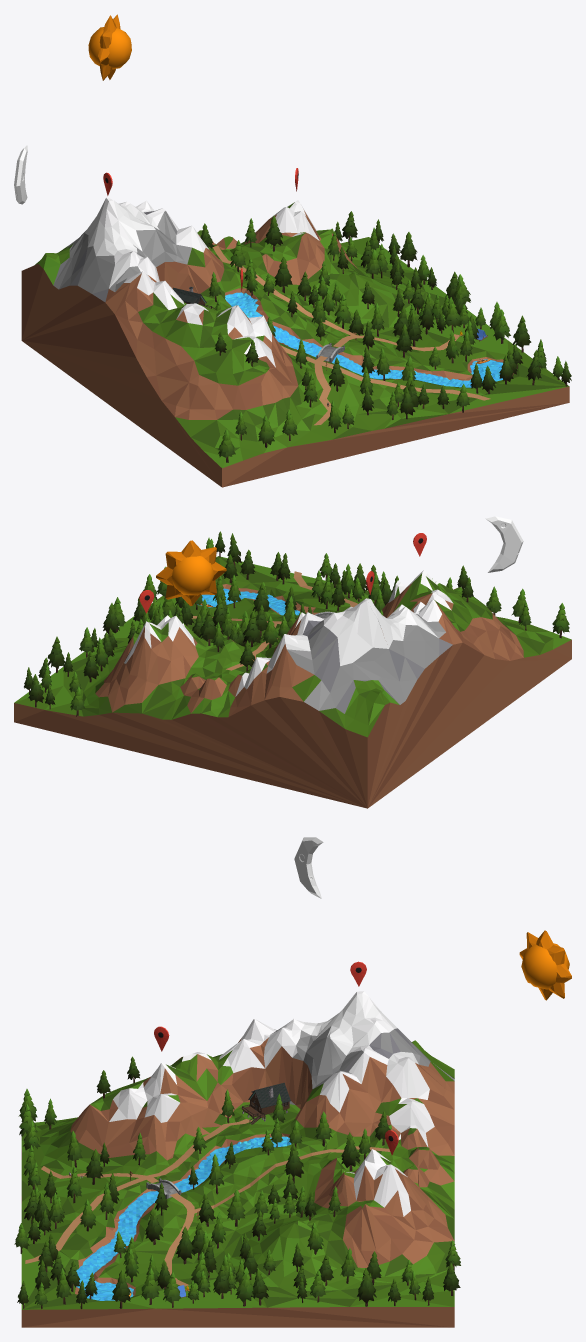
Rendered from mountain.glb.
3 views of the same model, one above another, from view 1: azimuth 30°, elevation 25°; view 2: azimuth 150°, elevation 25°; view 3: azimuth 270°, elevation 25° (orthographic). The views are drawn at different scales.
Parts seen in each view (by area): view 1: ground, water, path, Sun; view 2: ground, Sun, Moon, water, path; view 3: ground, water, path, Sun, Cabin, Moon.
Part boxes in pixels (x1,y1,x2,y2): ground: [21, 197, 569, 487]; water: [225, 292, 503, 387]; path: [213, 245, 490, 425]; Sun: [88, 14, 131, 80]; ground: [14, 556, 571, 808]; Sun: [156, 540, 226, 606]; Moon: [485, 516, 523, 572]; water: [197, 588, 299, 615]; path: [191, 571, 357, 670]; ground: [21, 991, 454, 1327]; water: [76, 1136, 291, 1300]; path: [25, 1119, 390, 1286]; Sun: [519, 930, 571, 1000]; Cabin: [241, 1082, 290, 1124]; Moon: [294, 837, 323, 898].
Bounding box in the file's own units: 43.87 × 25.34 × 45.28.
Materials: 16 (6 with a texture image).
